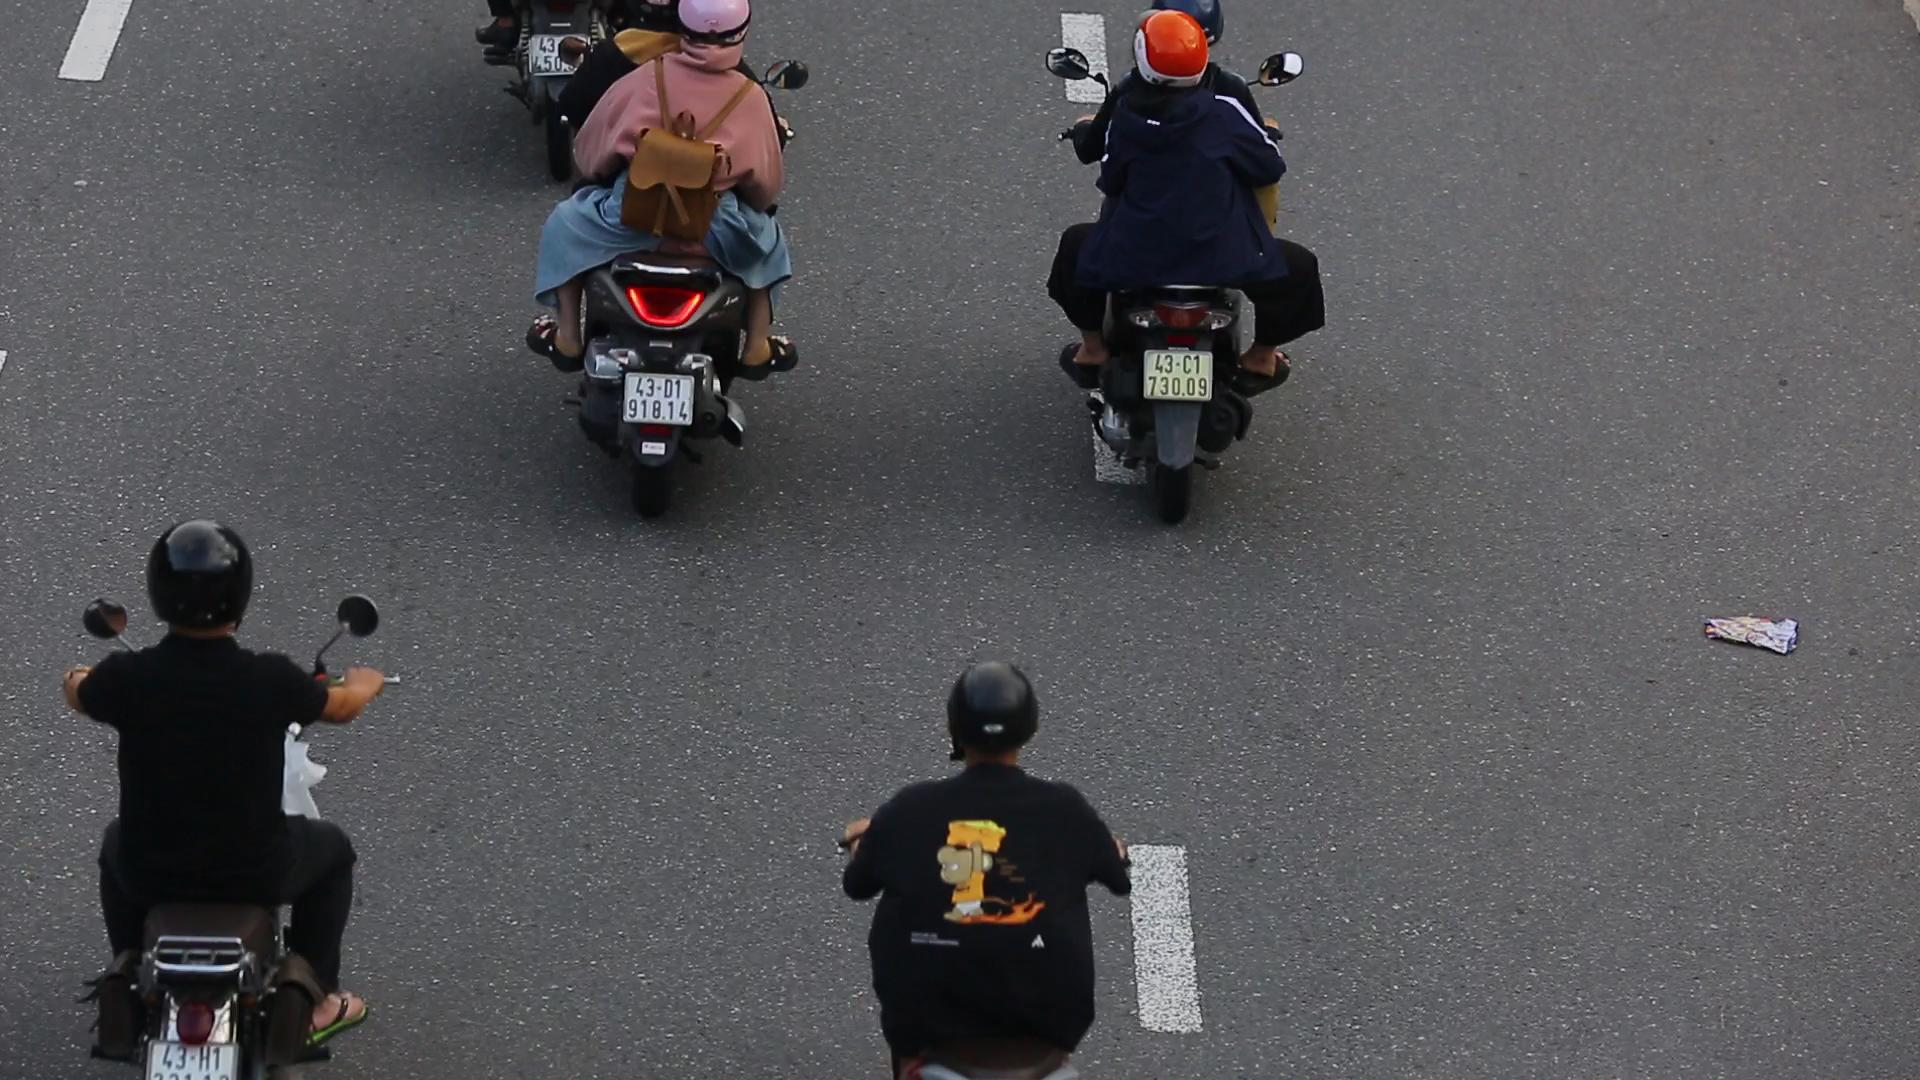motobike: (1040, 1, 1357, 539)
